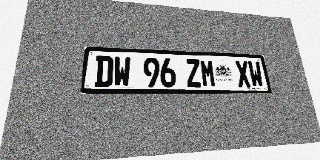6: (160, 58, 176, 87)
9: (144, 57, 160, 87)
D: (94, 56, 113, 87)
M: (200, 59, 217, 87)
W: (113, 56, 131, 87), (247, 61, 264, 87)
X: (234, 61, 252, 87)
Z: (185, 59, 202, 87)
